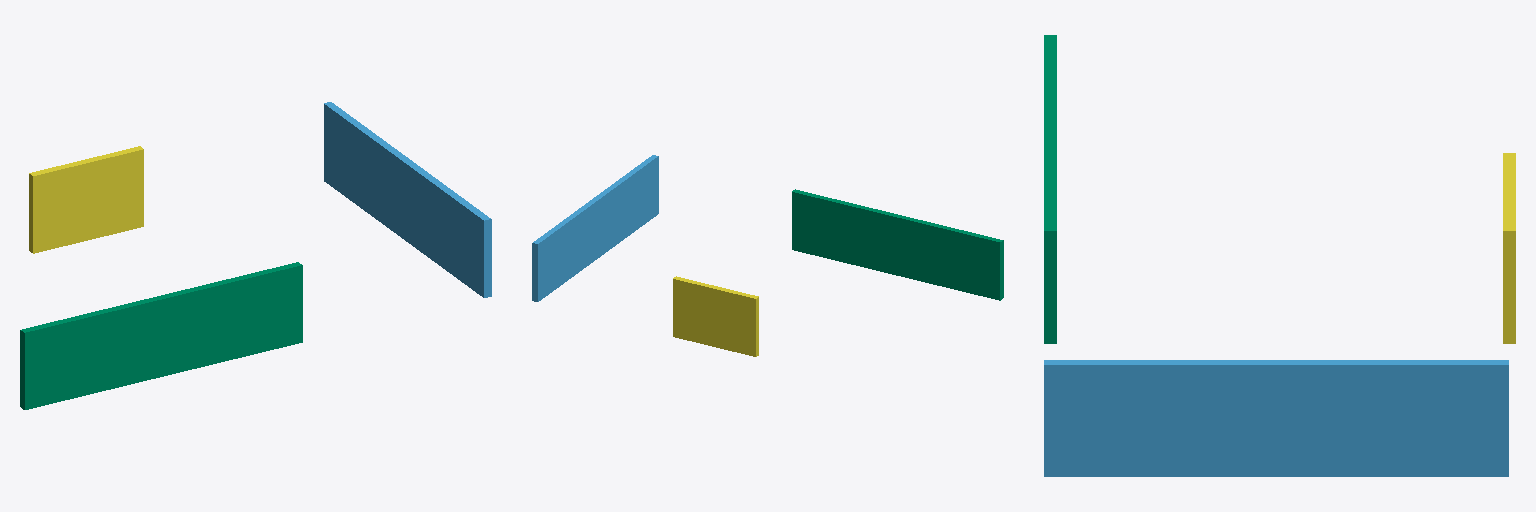
robot.urdf — demonstrated:
<robot name="demonstrated">
  <link name="world"/>
  <link name="wall1">
    <visual>
      <geometry>
        <box size="0.02 0.75 0.2"/>
      </geometry>
      <origin xyz="0.625 0.1875 0.05" rpy="0 0 0"/>
    </visual>
    <collision>
    <origin xyz="0.625 0.1875 0.05" rpy="0 0 0"/>
      <geometry>
        <box size="0.02 0.75 0.2"/>
      </geometry>
    </collision>
  </link>
  <joint name="wall1_joint" type="fixed">
    <parent link="world"/>
    <child link="wall1"/>
    <origin xyz="0.625 0.1875 0.05" rpy="0 0 0"/>
  </joint>
  <link name="wall2">
    <visual>
      <geometry>
        <box size="0.75 0.02 0.2"/>
      </geometry>
      <origin xyz="0.1875 0.005 0.05" rpy="0 0 0"/>
    </visual>
    <collision>
    <origin xyz="0.1875 0.005 0.05" rpy="0 0 0"/>
      <geometry>
        <box size="0.75 0.02 0.2"/>
      </geometry>
    </collision>
  </link>
  <joint name="wall2_joint" type="fixed">
    <parent link="world"/>
    <child link="wall2"/>
    <origin xyz="0.1875 0.005 0.05" rpy="0 0 0"/>
  </joint>
  <link name="wall3">
    <visual>
      <geometry>
        <box size="0.3 0.02 0.2"/>
      </geometry>
      <origin xyz="0.3 0.375 0.05" rpy="0 0 0"/>
    </visual>
    <collision>
    <origin xyz="0.3 0.375 0.05" rpy="0 0 0"/>
      <geometry>
        <box size="0.3 0.02 0.2"/>
      </geometry>
    </collision>
  </link>
  <joint name="wall3_joint" type="fixed">
    <parent link="world"/>
    <child link="wall3"/>
    <origin xyz="0.3 0.375 0.05" rpy="0 0 0"/>
  </joint>
</robot>

--- Render facts (derived) ---
The picture shows the robot from 3 angles, left to right: view 1: azimuth 30°, elevation 25°; view 2: azimuth 150°, elevation 25°; view 3: azimuth 270°, elevation 25°; orthographic projection.
Robot: demonstrated — 4 links, 3 joints (3 fixed); root link world; default pose: every joint at zero.
Visible links, largest first — view 1: wall2, wall1, wall3; view 2: wall2, wall1, wall3; view 3: wall1, wall2, wall3.
Boxes of the visible links, x1,y1,x2,y2 form: wall2: [20, 262, 302, 409]; wall1: [324, 102, 491, 297]; wall3: [29, 146, 143, 253]; wall2: [792, 189, 1003, 300]; wall1: [532, 155, 658, 301]; wall3: [673, 276, 758, 356]; wall1: [1044, 360, 1508, 476]; wall2: [1044, 35, 1056, 343]; wall3: [1503, 153, 1515, 343].
Size in the robot's own frame: 1.26 by 0.76 by 0.2 metres.
Geometry: primitives only (box / cylinder / sphere), no mesh files.